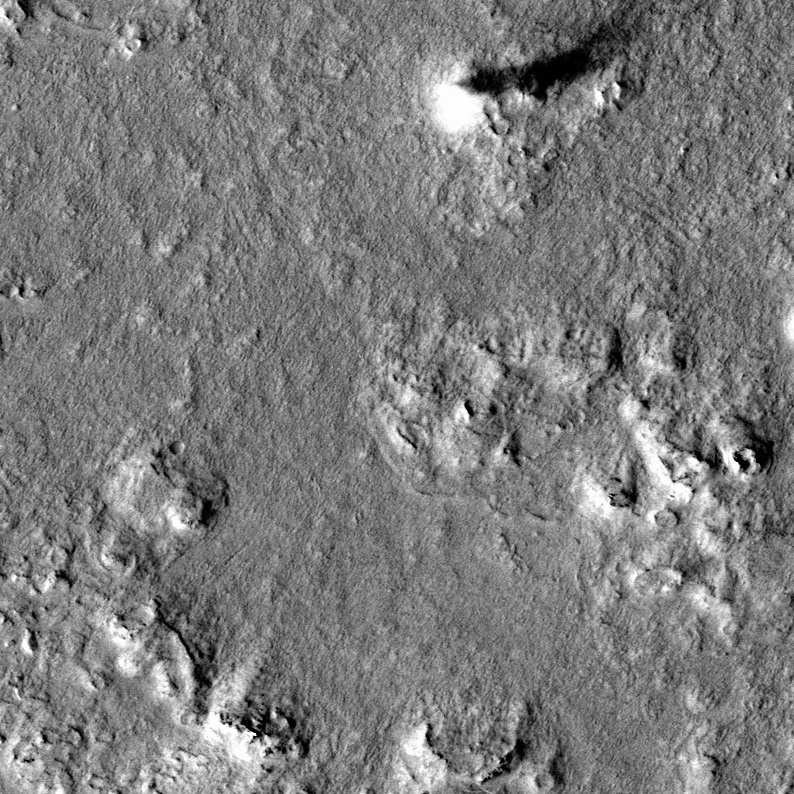dust_devil: (429, 9, 650, 141)
